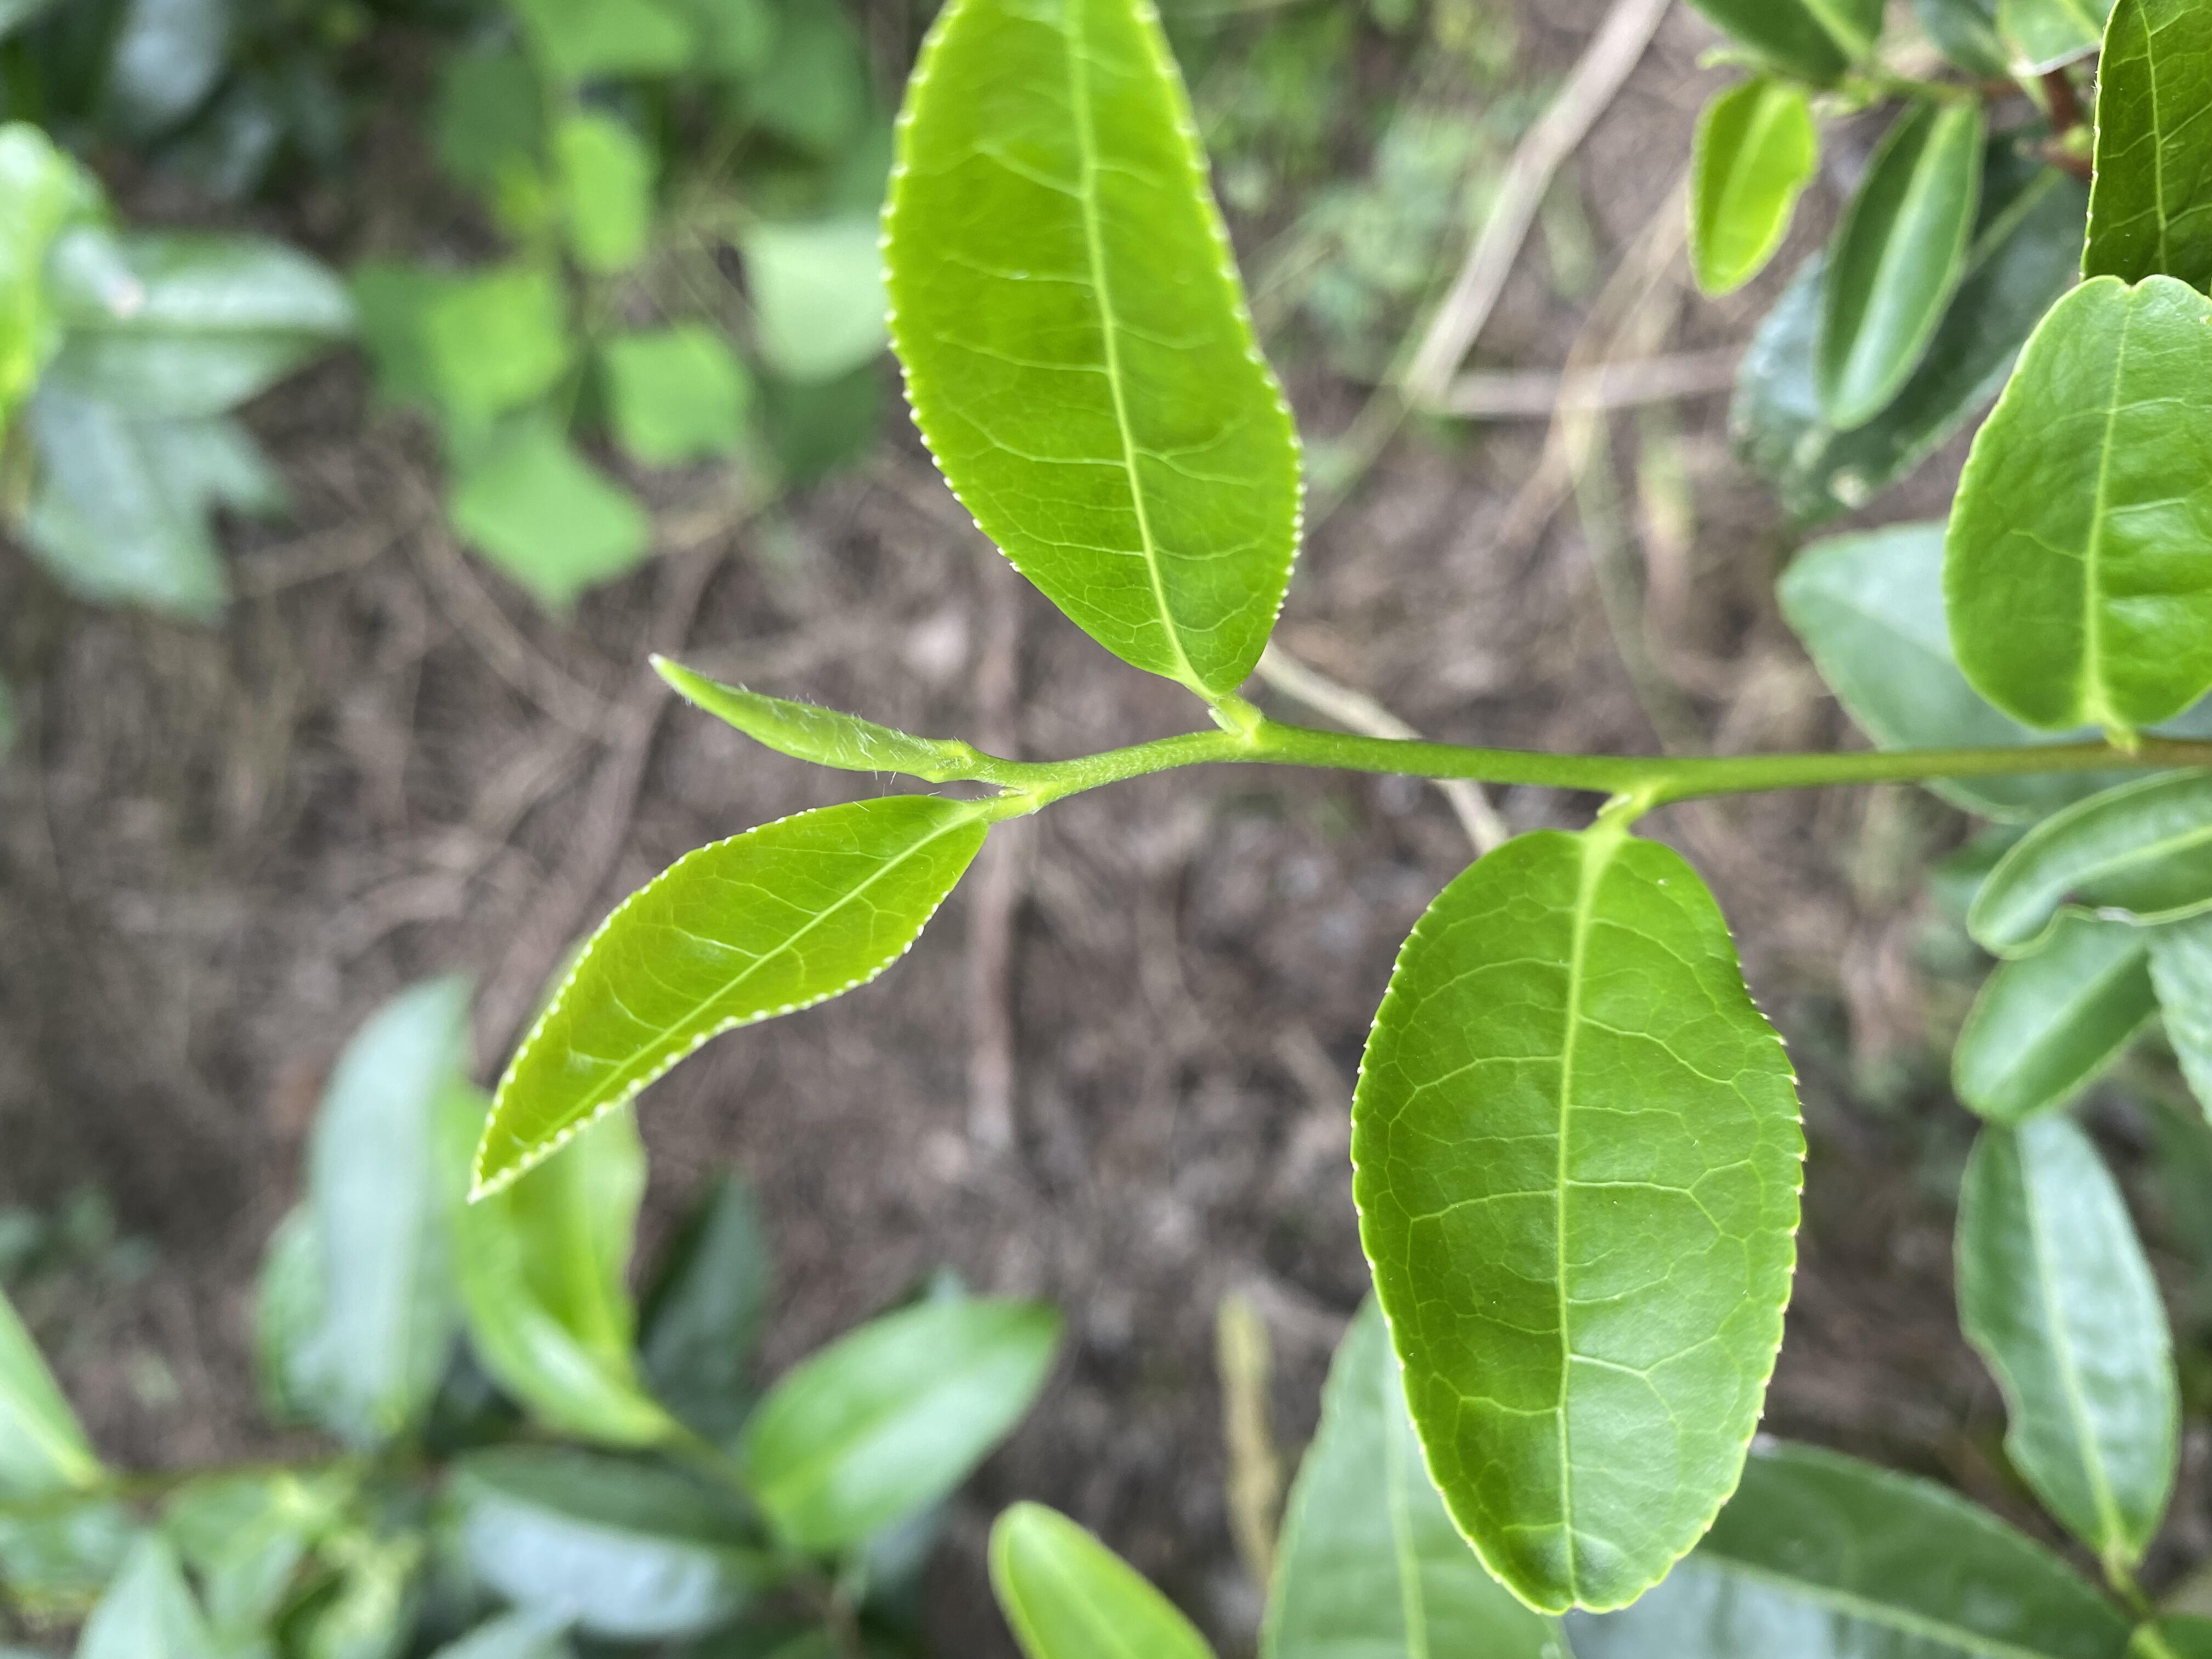healthy: (1346, 828, 1813, 1619), (880, 3, 1305, 695), (462, 793, 993, 1202), (1940, 272, 2210, 737)
